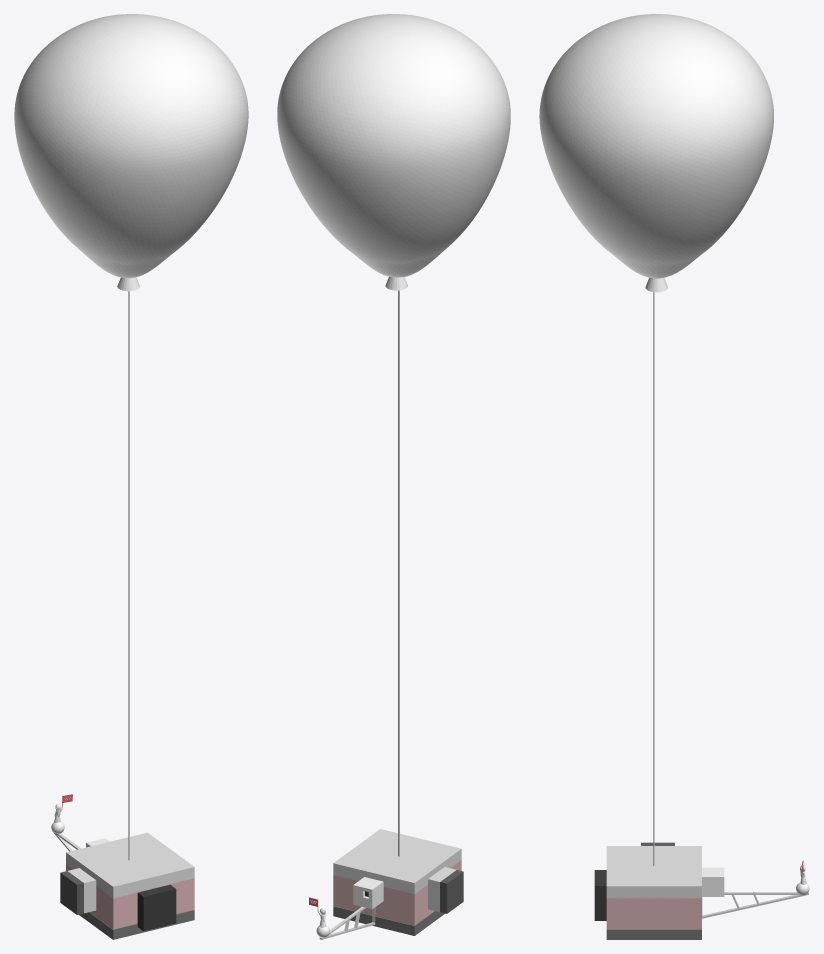
The model's file is globo.glb.
The picture shows the model from 3 angles, left to right: view 1: azimuth 30°, elevation 25°; view 2: azimuth 150°, elevation 25°; view 3: azimuth 270°, elevation 25°; orthographic projection.
Visible parts, largest first — view 1: Mesh_Mesh_head_geo.001_lambert2SG.002, Mesh_Mesh_head_geo.001_lambert2SG.001, Cubo.002, Cubo.001, Cubo.010, Cubo.009, Cilindro.003, Cubo; view 2: Mesh_Mesh_head_geo.001_lambert2SG.002, Mesh_Mesh_head_geo.001_lambert2SG.001, Cubo.002, Cubo.001, Cubo.009, Cilindro.003, Cubo, Cubo.003; view 3: Mesh_Mesh_head_geo.001_lambert2SG.001, Mesh_Mesh_head_geo.001_lambert2SG.002, Cubo.002, Cubo.001, Cilindro.003, Cubo, Cubo.003, Cubo.010.
Boxes of the visible parts, box(x1,y1,x2,y2) form: Mesh_Mesh_head_geo.001_lambert2SG.002: box(14, 14, 225, 291); Mesh_Mesh_head_geo.001_lambert2SG.001: box(120, 25, 248, 290); Cubo.002: box(66, 832, 194, 898); Cubo.001: box(66, 864, 194, 929); Cubo.010: box(137, 884, 176, 931); Cubo.009: box(60, 868, 96, 914); Cilindro.003: box(128, 291, 129, 860); Cubo: box(79, 910, 194, 939); Mesh_Mesh_head_geo.001_lambert2SG.002: box(300, 14, 510, 290); Mesh_Mesh_head_geo.001_lambert2SG.001: box(277, 24, 390, 288); Cubo.002: box(333, 829, 461, 894); Cubo.001: box(333, 860, 461, 925); Cubo.009: box(428, 867, 463, 913); Cilindro.003: box(398, 290, 399, 856); Cubo: box(333, 906, 444, 935); Cubo.003: box(353, 877, 383, 909); Mesh_Mesh_head_geo.001_lambert2SG.001: box(540, 57, 773, 292); Mesh_Mesh_head_geo.001_lambert2SG.002: box(539, 14, 773, 288); Cubo.002: box(606, 846, 701, 898); Cubo.001: box(606, 897, 701, 929); Cilindro.003: box(653, 292, 654, 865); Cubo: box(606, 929, 701, 939); Cubo.003: box(702, 867, 724, 896); Cubo.010: box(594, 870, 606, 920).
Bounding box in the file's own units: 4.99 × 20.73 × 5.67.
